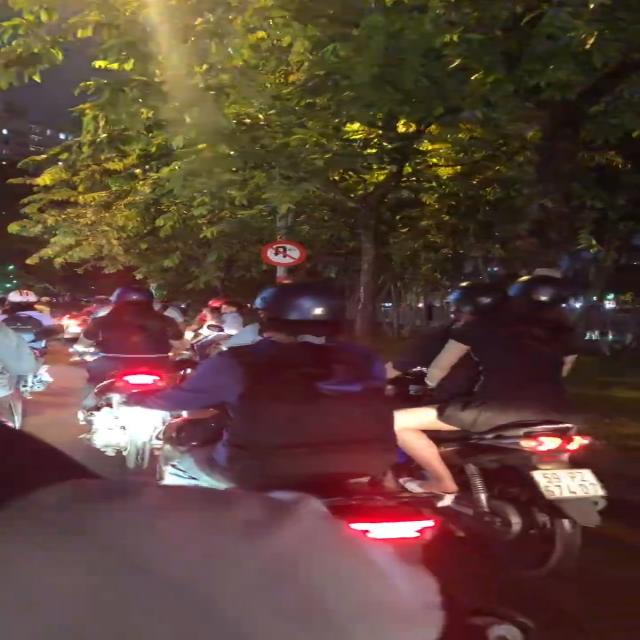Bien bao cam quay dau xe: (260, 240, 304, 266)
